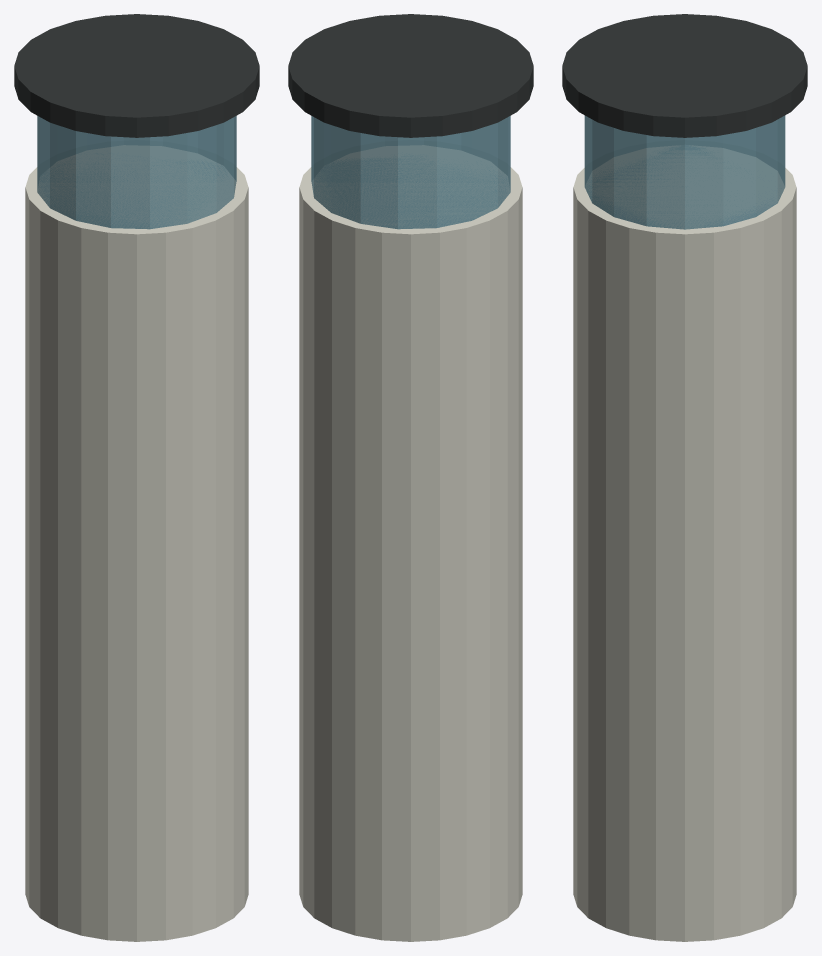
The model's file is britainlighthouse.gltf.
3 views of the same model, side by side, from view 1: azimuth 30°, elevation 25°; view 2: azimuth 150°, elevation 25°; view 3: azimuth 270°, elevation 25° (orthographic).
Parts seen in each view (by area): view 1: britainlighthouse; view 2: britainlighthouse; view 3: britainlighthouse.
Part boxes in pixels (x1,y1,x2,y2): britainlighthouse: (14, 14, 259, 941); britainlighthouse: (288, 14, 533, 941); britainlighthouse: (562, 14, 807, 941).
Size of the model in its own units: 11 by 41 by 11.
